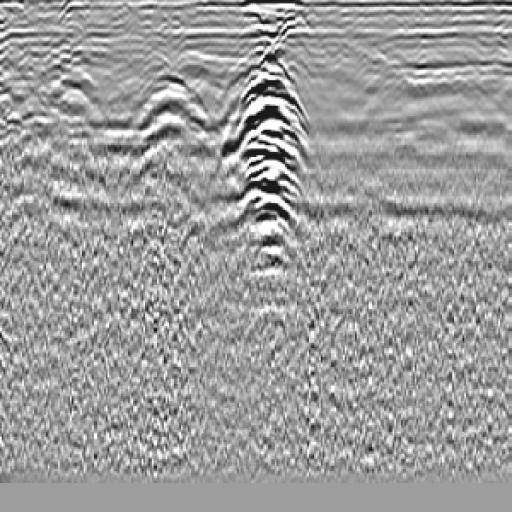metalic: (208, 15, 342, 302)
nonmetalic: (123, 64, 219, 162)
